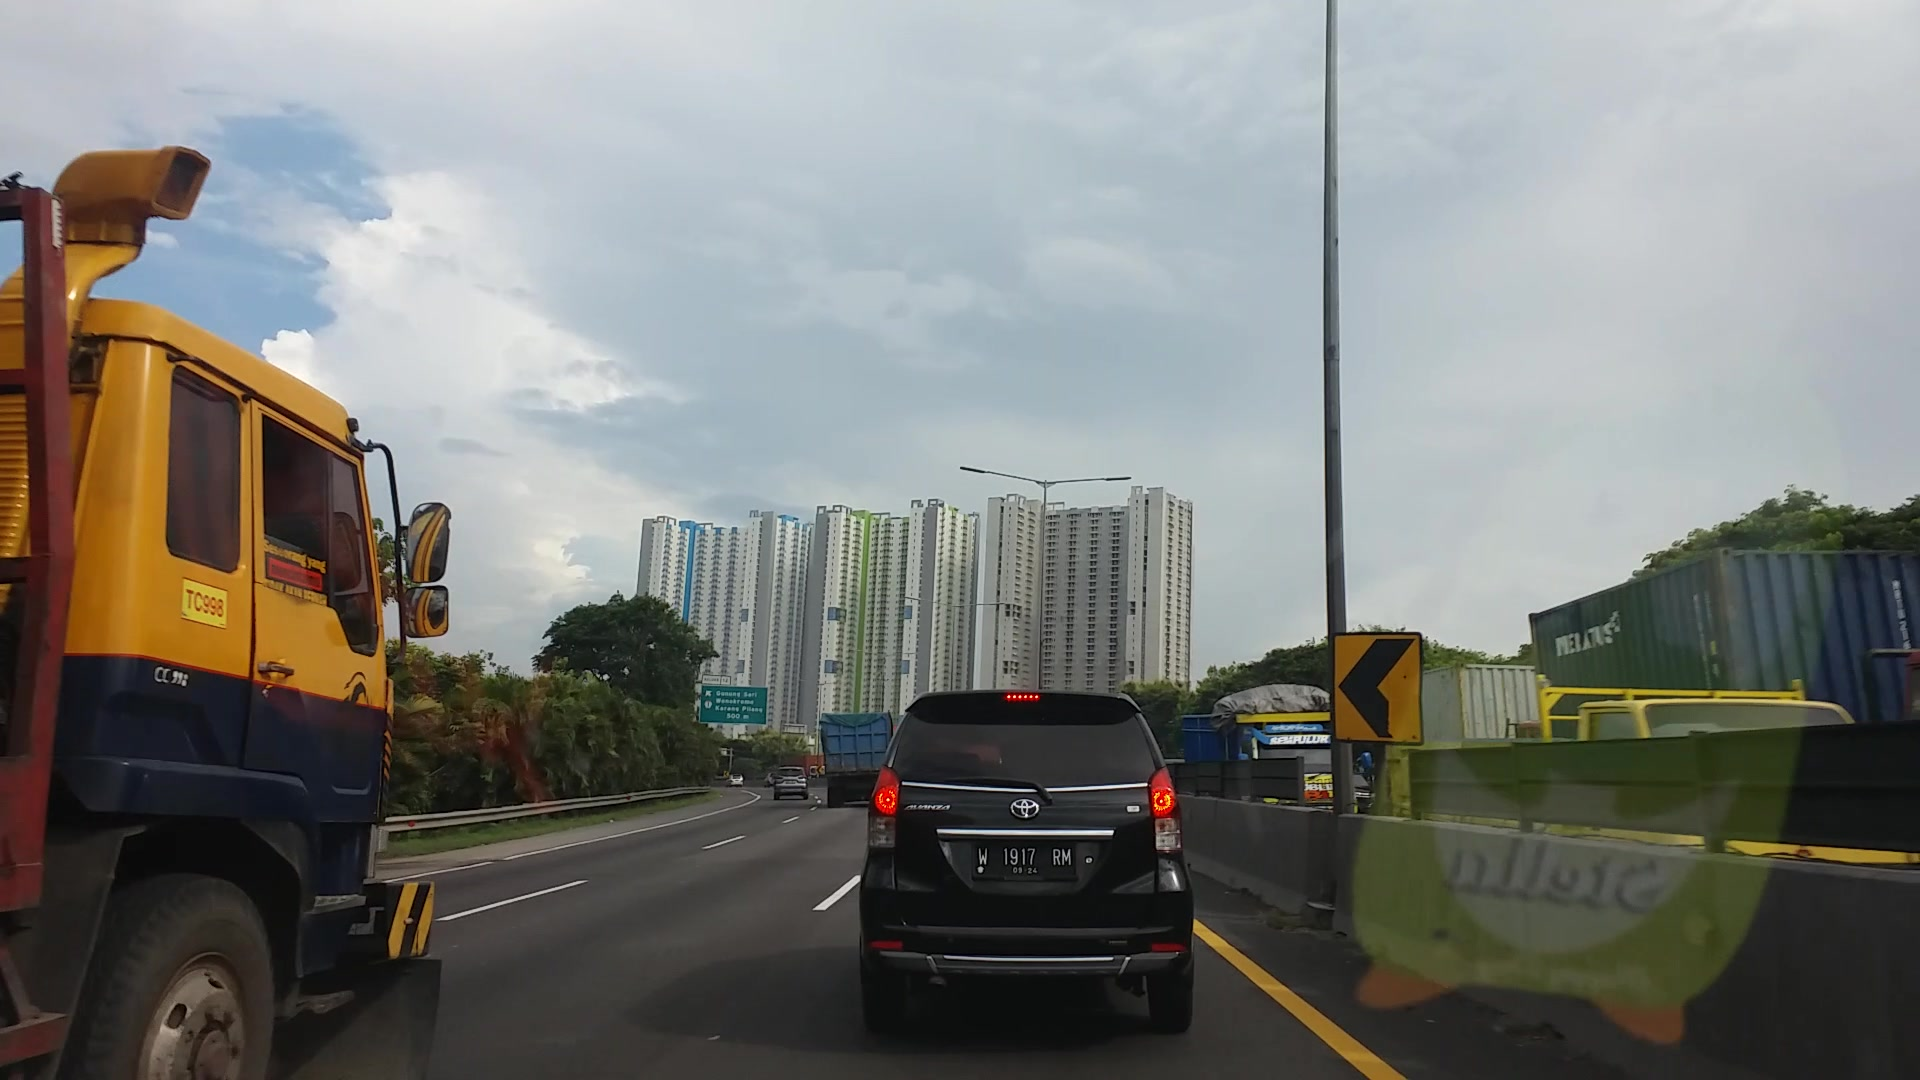plate_positive: (973, 840, 1077, 881)
